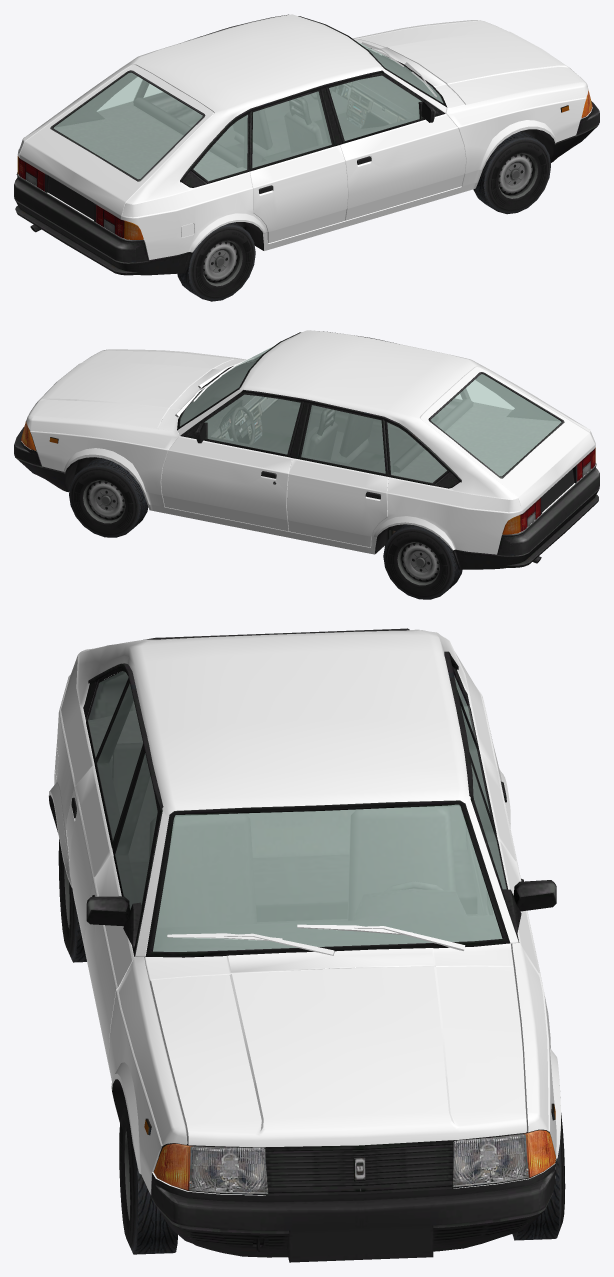
File: moskvich.glb
3 views of the same model, one above another, from view 1: azimuth 30°, elevation 25°; view 2: azimuth 150°, elevation 25°; view 3: azimuth 270°, elevation 25° (orthographic). The views are drawn at different scales.
Visible parts, largest first — view 1: Object_2, Object_3, Object_4, Object_5; view 2: Object_2, Object_3, Object_4, Object_5; view 3: Object_2, Object_3, Object_4, Object_5.
Part boxes in pixels (box(x1,y1,x2,y2)): Object_2: box(17, 14, 592, 259); Object_3: box(14, 14, 599, 275); Object_4: box(54, 41, 442, 180); Object_5: box(177, 131, 550, 301); Object_2: box(21, 330, 595, 554); Object_3: box(14, 331, 599, 569); Object_4: box(180, 346, 561, 482); Object_5: box(69, 458, 462, 599); Object_2: box(48, 629, 560, 1195); Object_3: box(49, 628, 556, 1262); Object_4: box(88, 671, 506, 951); Object_5: box(58, 839, 565, 1254).
Bounding box in the file's own units: 4.76 × 1.53 × 2.1.
Materials: 4 (2 with a texture image).
